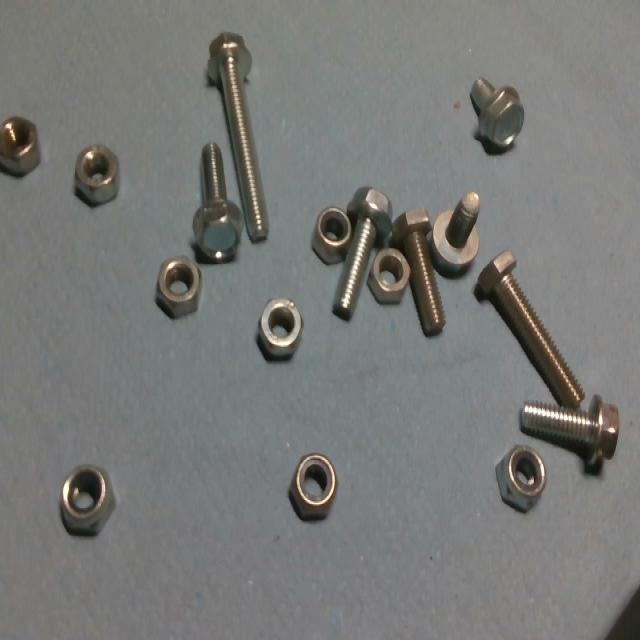Bolt: (474, 252, 584, 411), (207, 33, 268, 240), (330, 187, 394, 317), (520, 397, 618, 469), (191, 141, 245, 263), (393, 207, 445, 333), (469, 80, 525, 156), (429, 192, 479, 275)
Nut: (495, 445, 546, 512), (288, 452, 338, 520), (60, 465, 110, 533), (153, 255, 204, 320), (255, 296, 303, 363), (76, 144, 117, 208), (366, 248, 410, 304), (0, 116, 41, 175), (312, 207, 351, 263)
